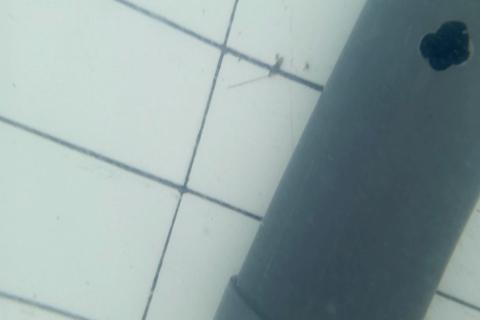kebocoran: (418, 17, 471, 73)
